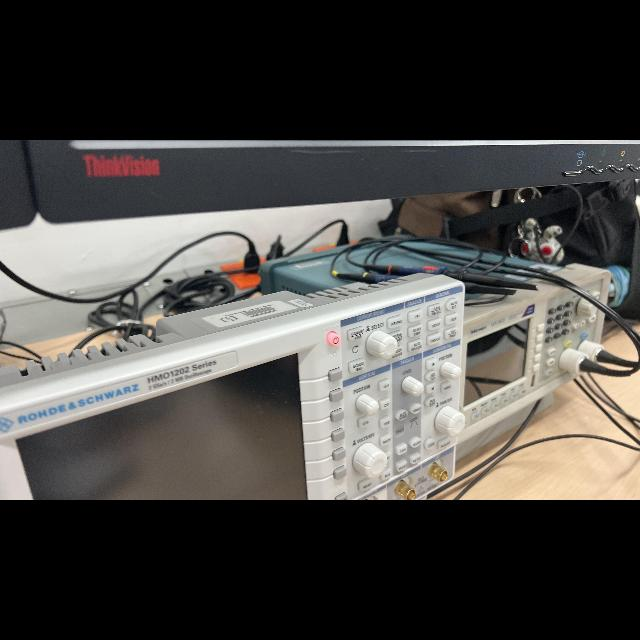Digital-Oscilloscope: (0, 265, 610, 499), (6, 301, 80, 341)
